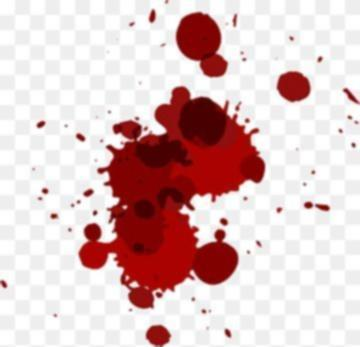Bloodstain-Detection: (121, 130, 185, 280), (181, 13, 213, 61)
